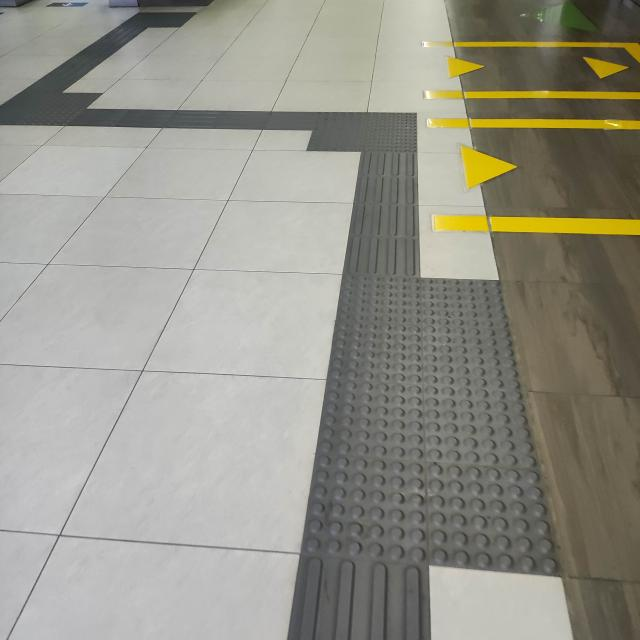kiri: (253, 96, 444, 170)
